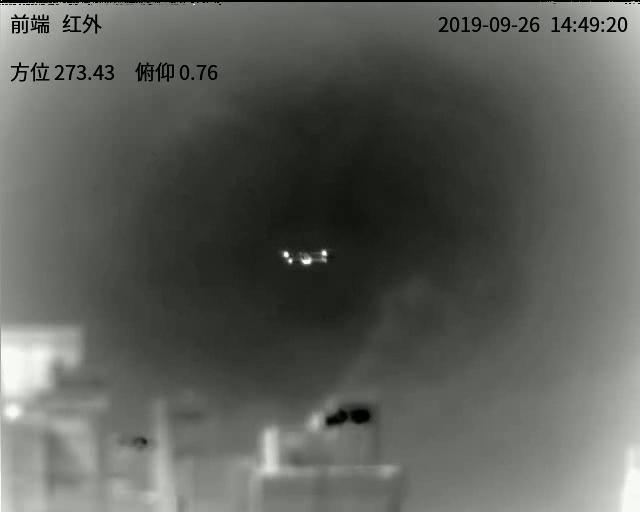DRONE: (279, 247, 330, 267)
